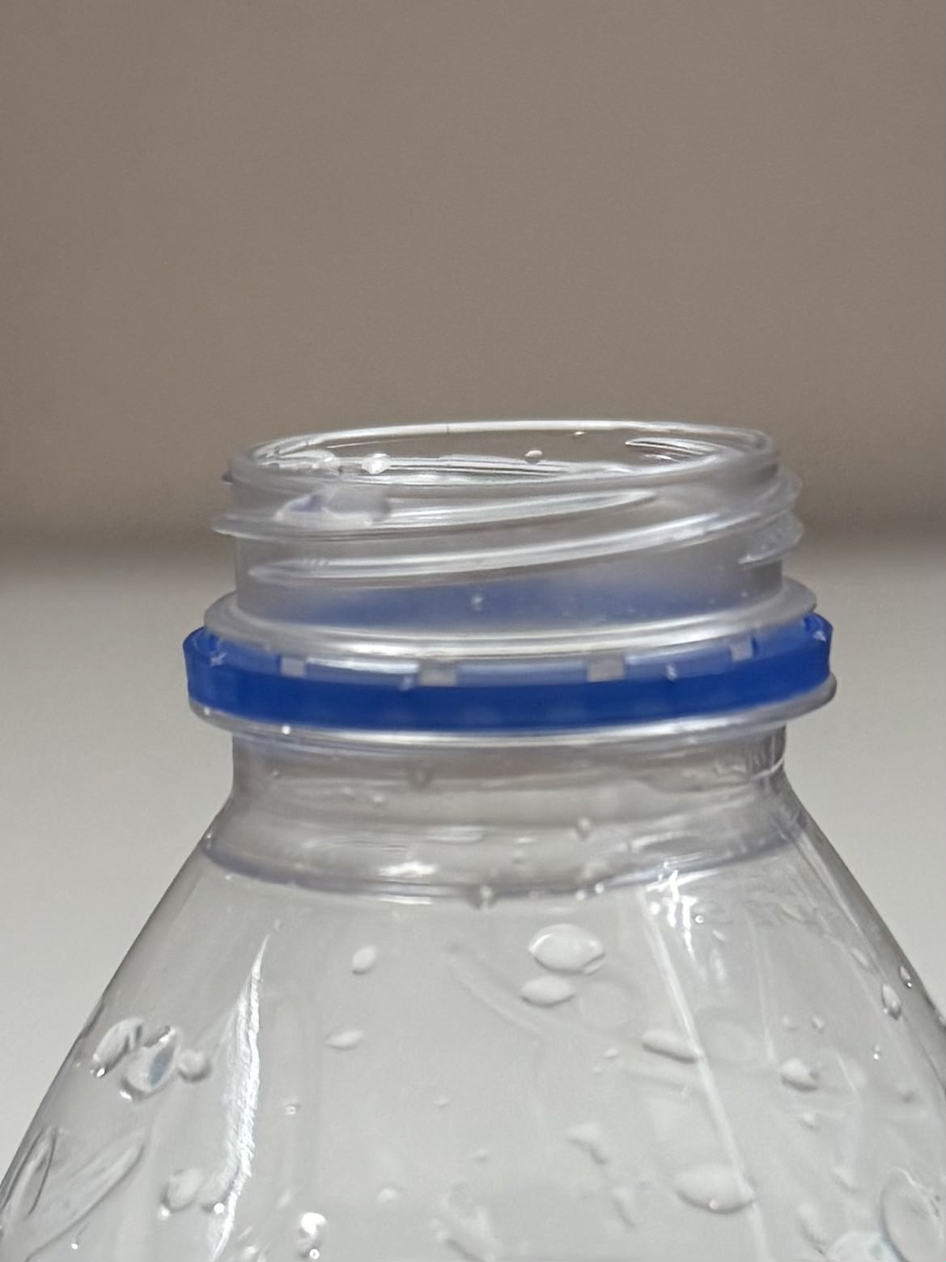no_cap: (185, 410, 849, 765)
